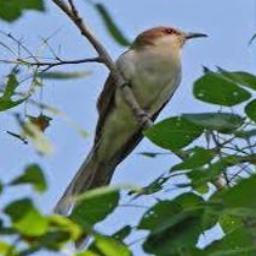Cuckoo: (53, 26, 209, 250)
